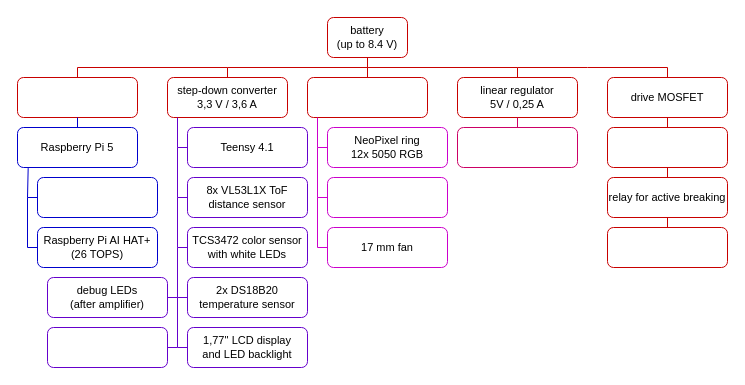
Image size: 745x385. Some labels were removed from this diagram. The box of each missing label's shape, as (x1, y1, x2, y2) in pixels:
2x ACS712-5 current sensor: (326, 176, 448, 218)
ATtiny841 and battery level indicator: (456, 126, 578, 168)
DC motor: (606, 226, 728, 268)
ICM-20948 IMU: (46, 326, 168, 368)
Raspberry Pi Camera Module 3 Wide: (36, 176, 158, 218)
relay for driving direction selection: (606, 126, 728, 168)
step-down converter 5 V / 1 A: (306, 76, 428, 118)
step-down converter 5 V / 5 A: (16, 76, 138, 118)
